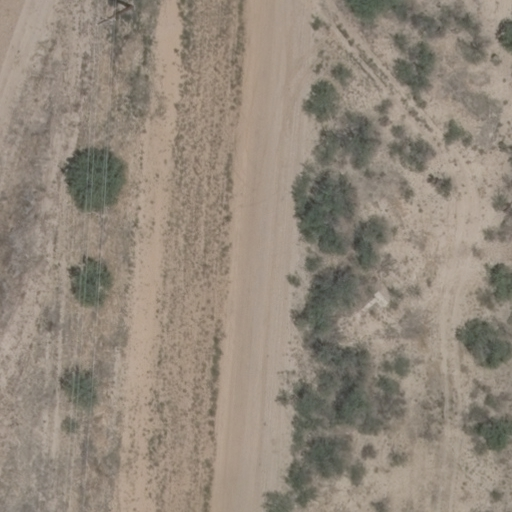DT: (93, 3, 140, 30)
